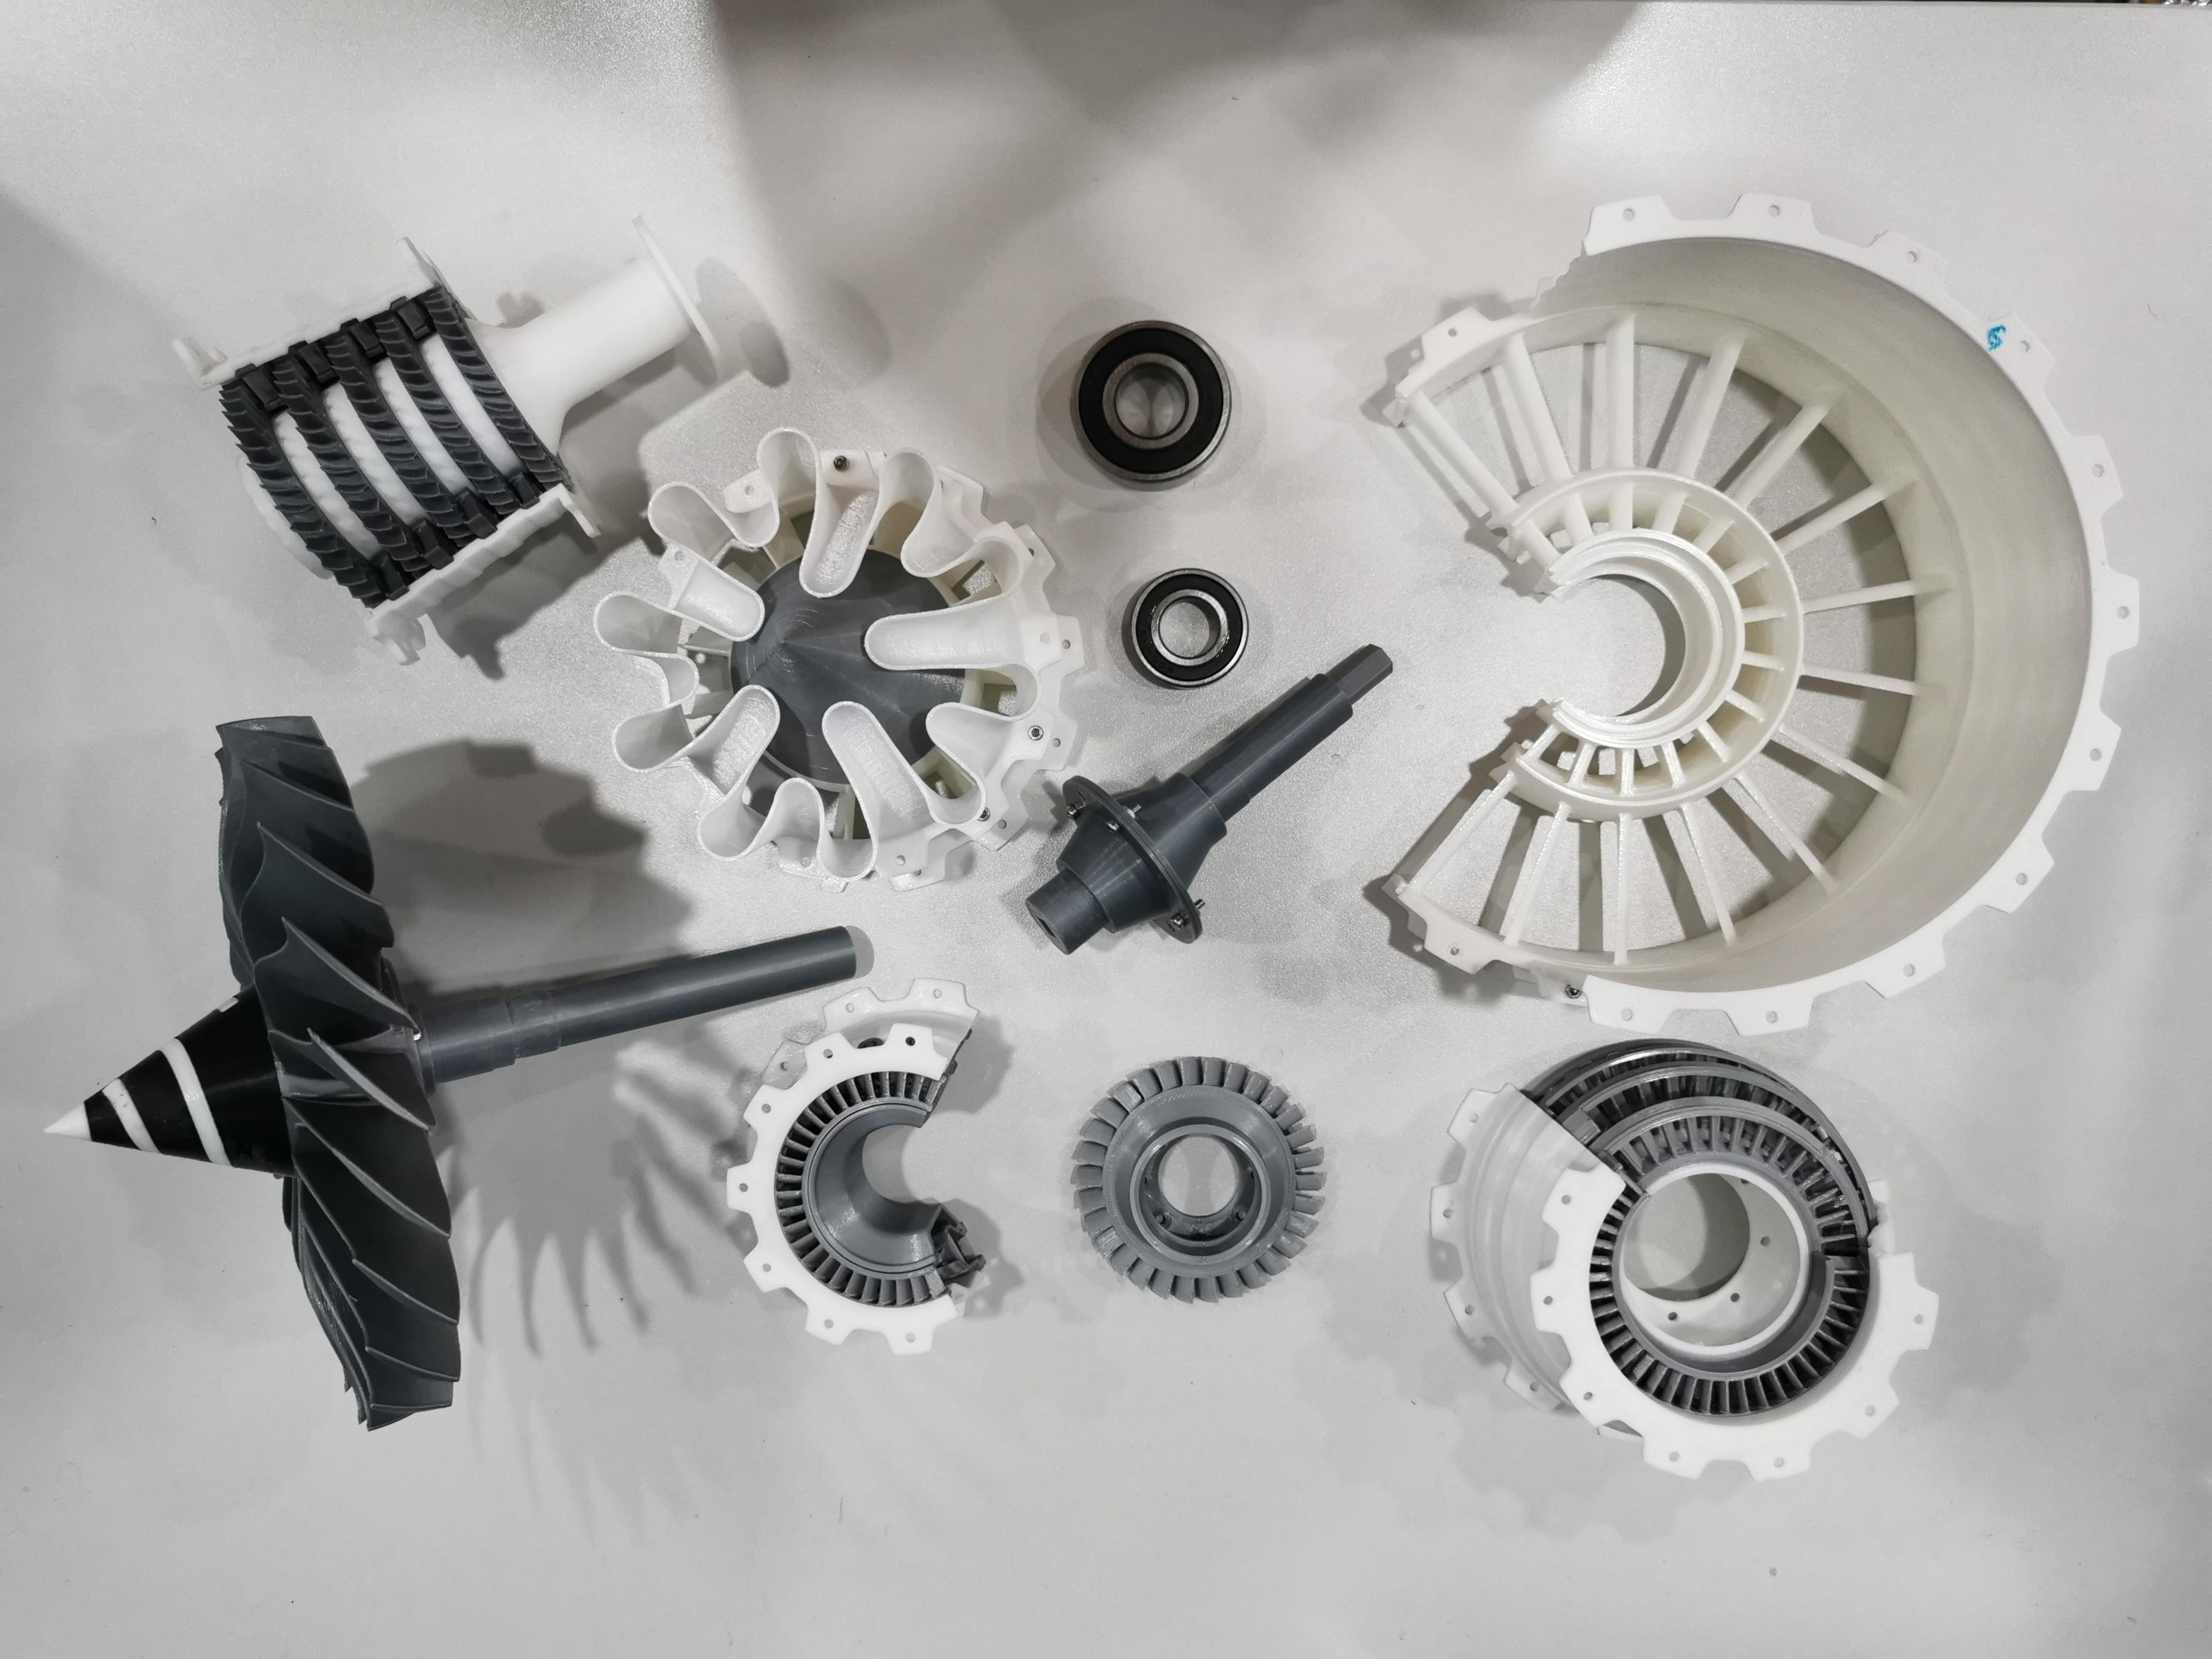Bearing-6003: (1113, 558, 1271, 699)
Bearing-6204: (1052, 289, 1254, 502)
Combustion Section: (705, 962, 1007, 1378)
Fan Casing and Support: (1355, 173, 2155, 1037)
Fan and Low Pressure Shaft: (30, 708, 869, 1450)
HPT Section: (1057, 1049, 1338, 1312)
High Pressure Spool: (165, 192, 737, 674)
LPT Section: (1414, 1039, 1961, 1492)
Low Pressure Spool: (1021, 627, 1414, 958)
Nozzle Section: (589, 418, 1096, 899)
